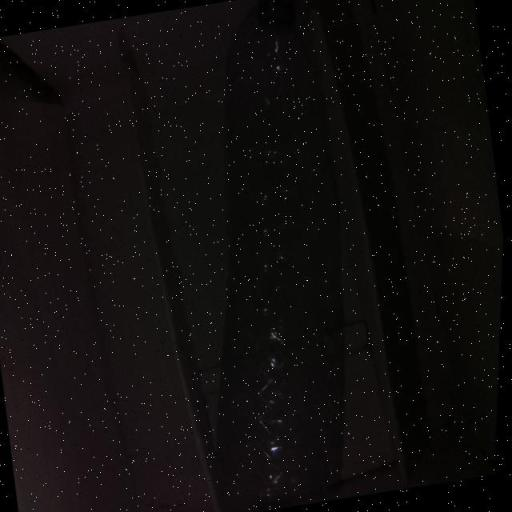plastic: (134, 0, 408, 512)
